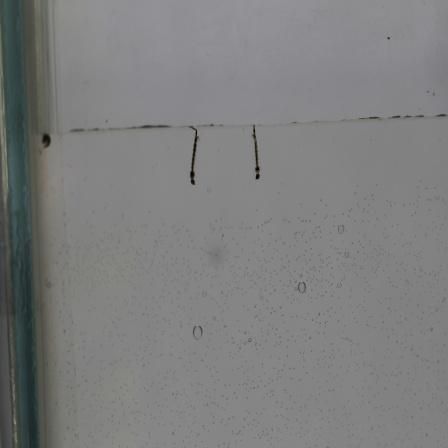Jentik-Nyamuk: (246, 122, 268, 186), (185, 127, 205, 191)
